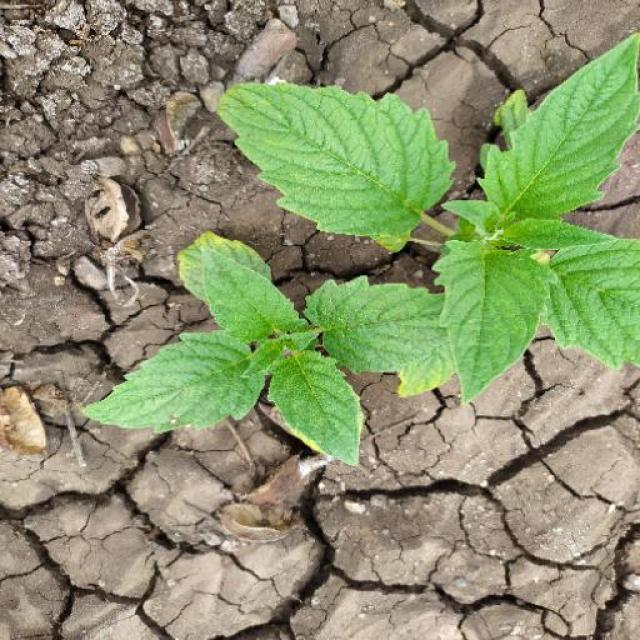crop: (215, 46, 640, 388), (84, 210, 488, 500)
